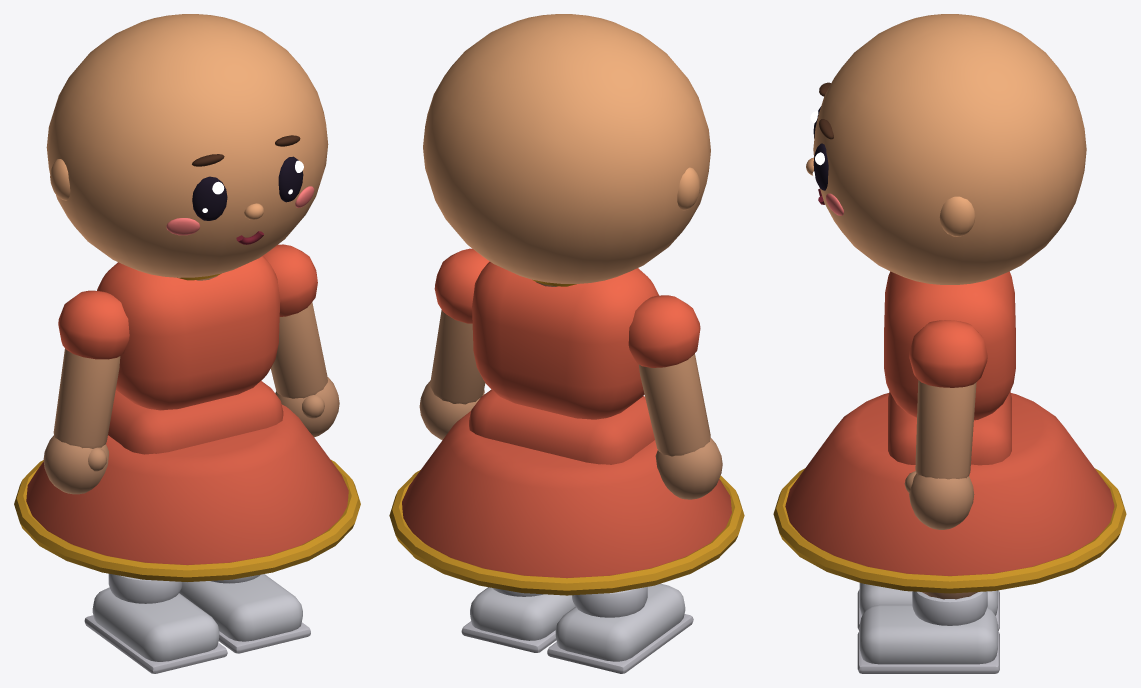
Rendered from body_teen_dress.glb.
3 renders of one model, left to right at view 1: azimuth 30°, elevation 25°; view 2: azimuth 150°, elevation 25°; view 3: azimuth 270°, elevation 25°, orthographic. The views are drawn at different scales.
Parts seen in each view (by area): view 1: Head, Hips, Torso, ArmR, LegR, ArmL, LegL; view 2: Head, Hips, Torso, ArmR, LegR, ArmL, LegL; view 3: Head, Hips, ArmL, Torso, LegL, LegR.
Part boxes in pixels (x1,y1,x2,y2): Head: (46, 14, 328, 277); Hips: (14, 381, 360, 581); Torso: (97, 256, 280, 410); ArmR: (43, 290, 129, 494); LegR: (84, 573, 227, 673); ArmL: (263, 244, 339, 437); LegL: (179, 574, 310, 653); Head: (423, 14, 710, 283); Hips: (389, 389, 744, 595); Torso: (472, 261, 658, 419); ArmR: (628, 295, 722, 499); LegR: (547, 583, 693, 673); ArmL: (419, 248, 489, 439); LegL: (461, 587, 575, 652); Head: (806, 14, 1086, 284); Hips: (773, 391, 1126, 593); ArmL: (904, 320, 987, 529); Torso: (884, 271, 1015, 420); LegL: (857, 591, 999, 673); LegR: (857, 583, 999, 630).
Size of the model in its own units: 0.68 by 1.29 by 0.68.
